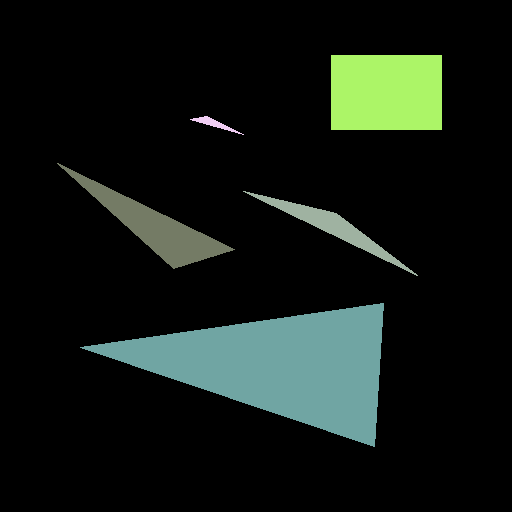rectangle: (331, 55, 441, 129)
triangle: (80, 303, 383, 446), (57, 163, 234, 268), (243, 191, 417, 275), (190, 116, 243, 134)
